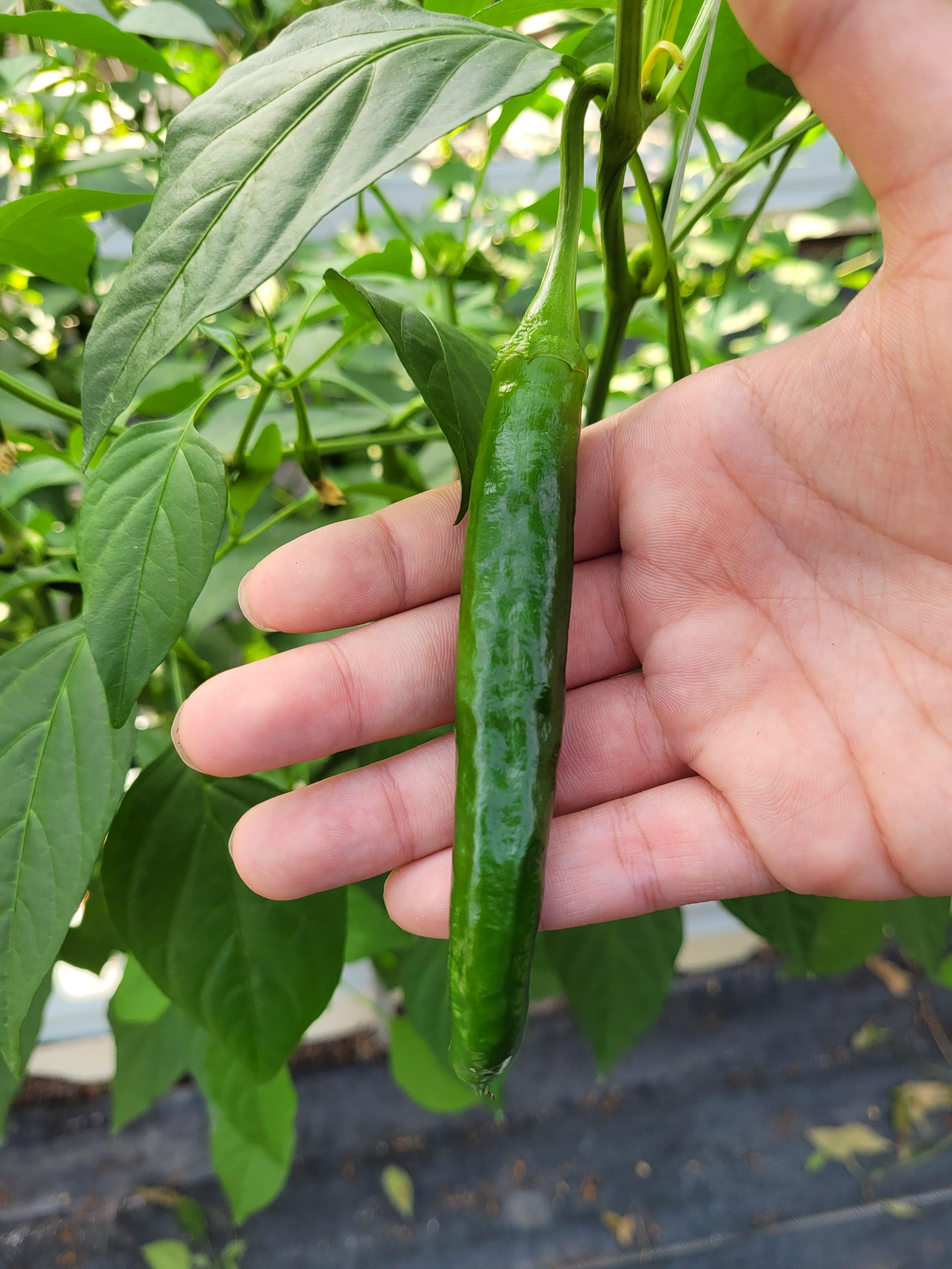Buah Cabai Sehat: (68, 0, 551, 491), (441, 299, 598, 1099), (75, 409, 232, 725)
